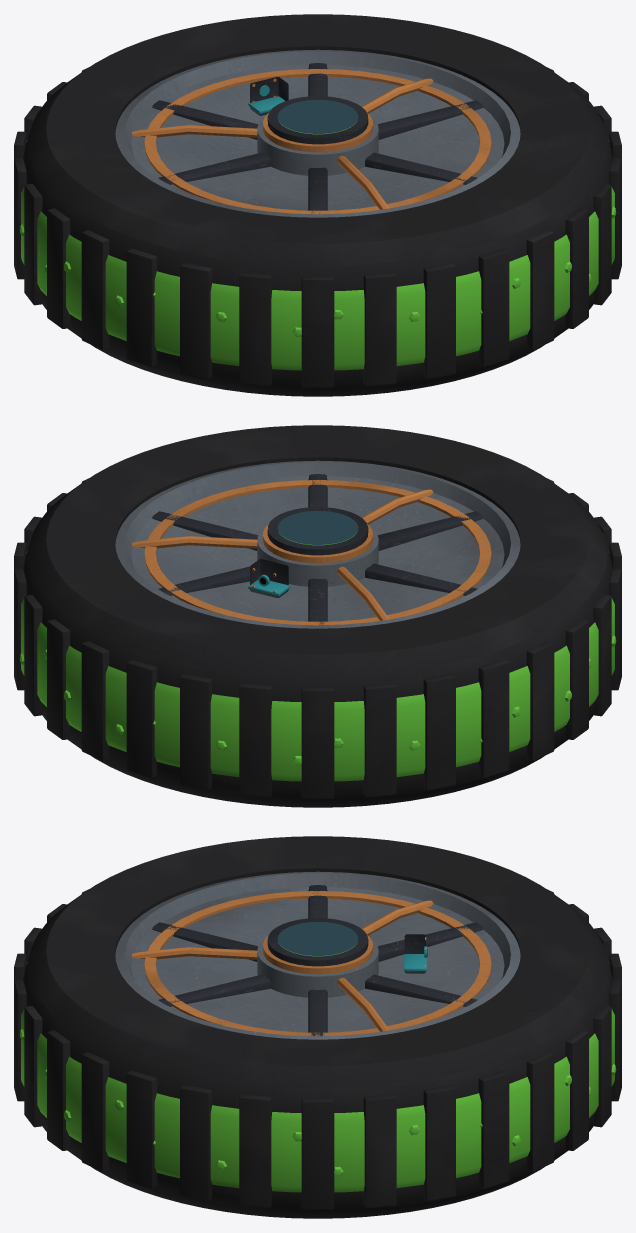
The model's file is sticky_wheel.glb.
The picture shows the model from 3 angles, top to bottom: view 1: azimuth 30°, elevation 25°; view 2: azimuth 150°, elevation 25°; view 3: azimuth 270°, elevation 25°; orthographic projection.
Parts seen in each view (by area): view 1: Wheel, Gel; view 2: Wheel, Gel; view 3: Wheel, Gel.
Part boxes in pixels (x1,y1,x2,y2): Wheel: (14,14,621,396); Gel: (19,140,616,370); Wheel: (14,425,621,807); Gel: (19,551,616,781); Wheel: (14,836,621,1218); Gel: (19,962,616,1192).
Size of the model in its own units: 0.75 by 0.2474 by 0.7497.
10 materials, 4 textured.
